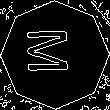M_E: (30, 32, 80, 78)
